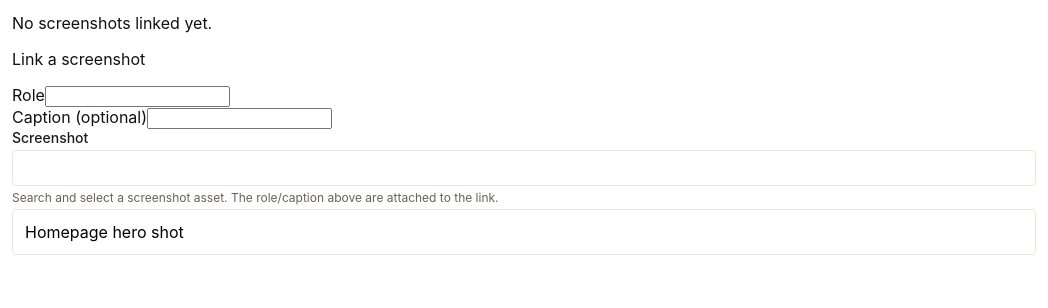
it: PortfolioScreenshotsSection › shows the backend's error message on a failed add
In the field labelled "Role": (137, 96) [45,86,230,107], type "logo"
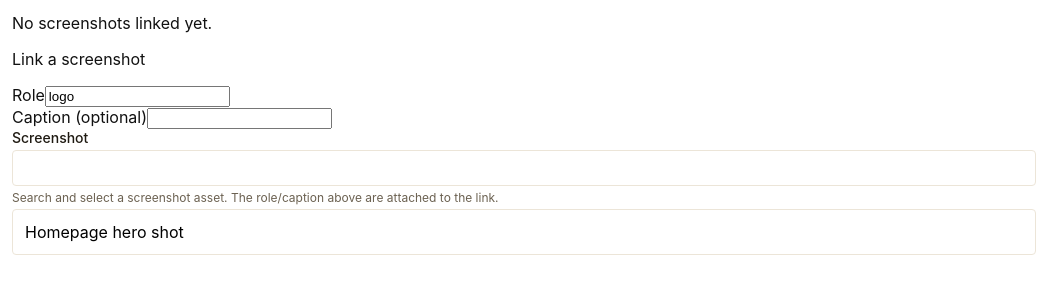
In the dropdown labelled "Screenshot": (524, 168) [12,150,1036,186], type "Homepage"
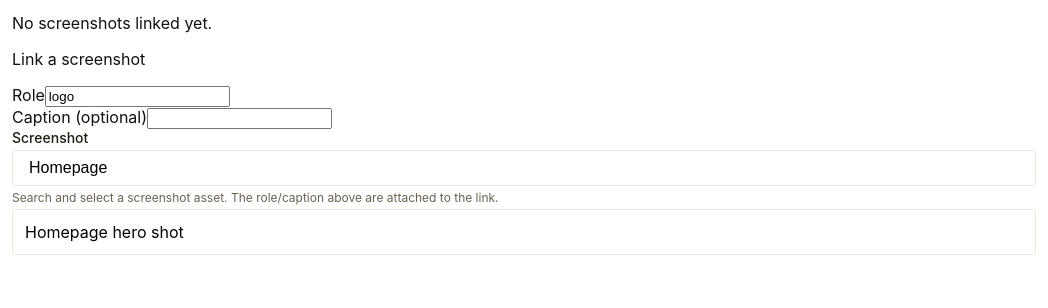
Click the button "Homepage hero shot": (104, 232) [17,214,1031,250]
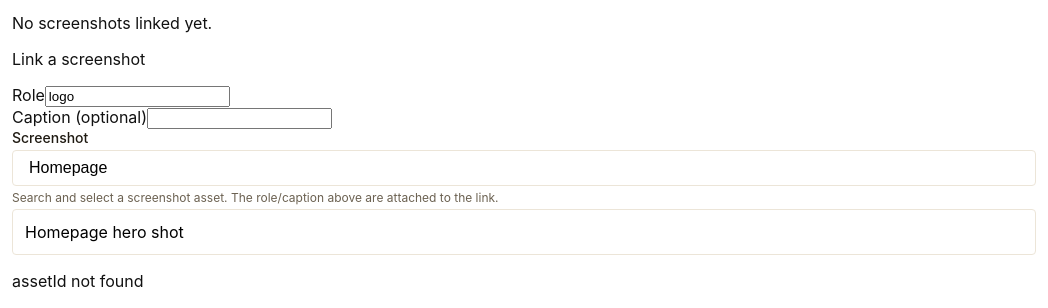
Expected: the message reads "assetId not found", [12,271,144,291]
